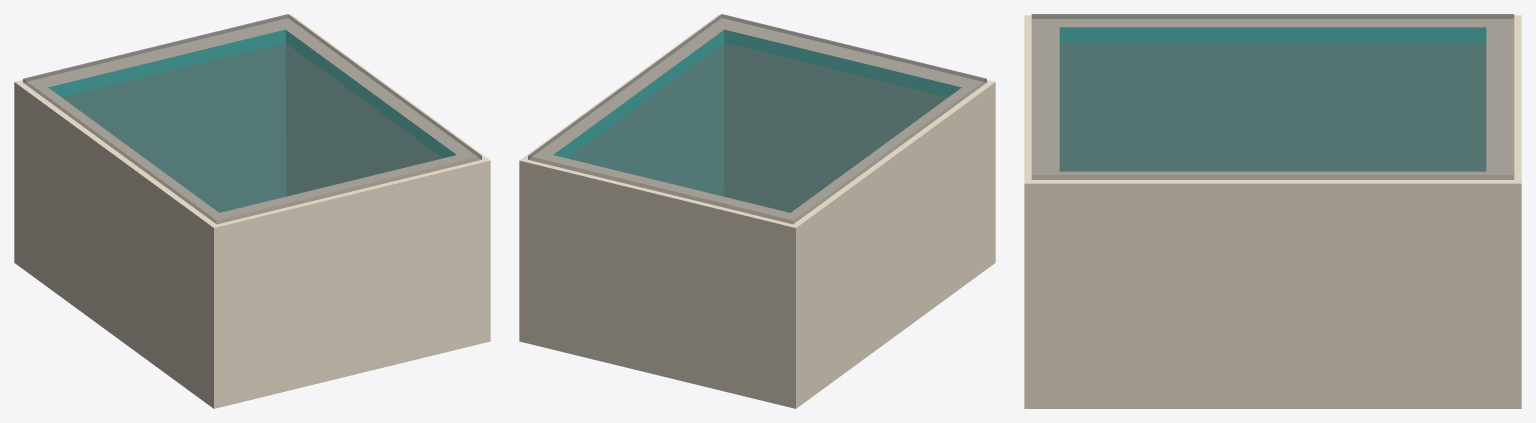
Rendered from scanner.fbx.
3 renders of one model, left to right at view 1: azimuth 30°, elevation 25°; view 2: azimuth 150°, elevation 25°; view 3: azimuth 270°, elevation 25°, orthographic. The views are drawn at different scales.
Visible parts, largest first — view 1: Cube, Plane; view 2: Cube, Plane; view 3: Cube, Plane.
Part boxes in pixels (box(x1,y1,x2,y2)): Cube: box(14, 14, 490, 408); Plane: box(23, 14, 481, 224); Cube: box(519, 14, 995, 408); Plane: box(528, 14, 986, 224); Cube: box(1024, 15, 1521, 408); Plane: box(1031, 14, 1514, 179).
Bounding box in the file's own units: 29.78 × 19.03 × 37.23.
